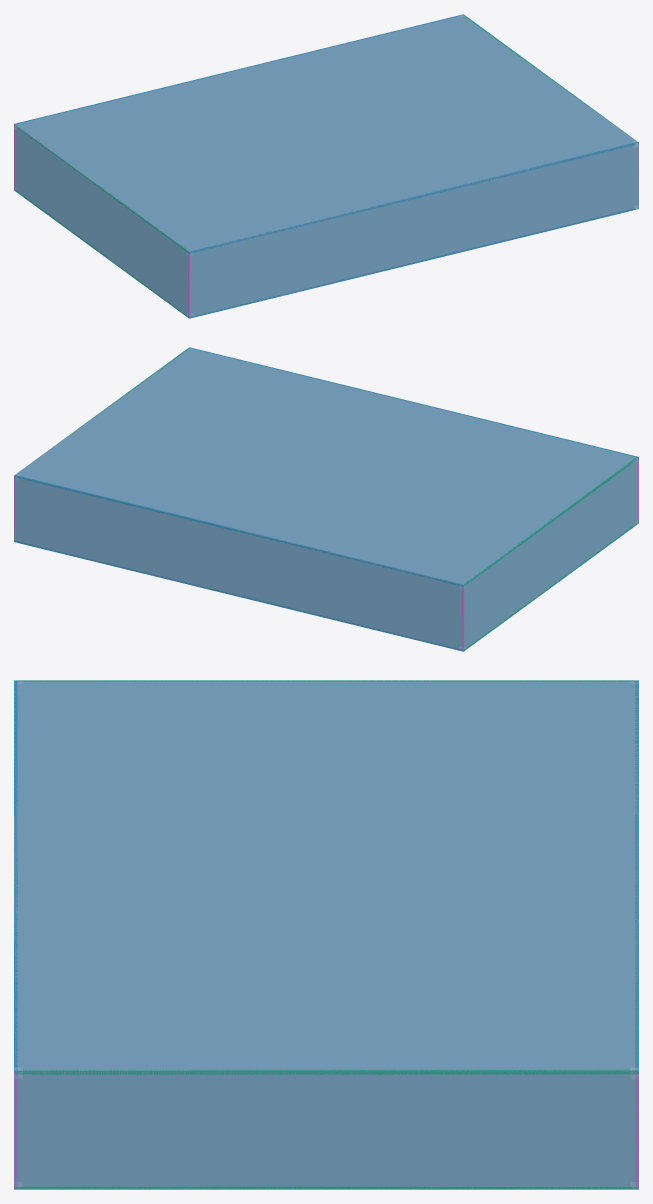
File: total-envelope-total-gpu-gigabyte-gv-n75toc-2gi.glb
3 views of the same model, one above another, from view 1: azimuth 30°, elevation 25°; view 2: azimuth 150°, elevation 25°; view 3: azimuth 270°, elevation 25° (orthographic). The views are drawn at different scales.
Parts seen in each view (by area): view 1: Published outer envelope — not a surface-accurate model, Length guide (×3), Height guide; view 2: Published outer envelope — not a surface-accurate model, Length guide (×3), Height guide; view 3: Published outer envelope — not a surface-accurate model, Height guide (×3), Length guide (×2).
Boxes of the visible parts, x1,y1,x2,y2 form: Published outer envelope — not a surface-accurate model: [14, 15, 638, 317]; Length guide (×3): [14, 14, 638, 318]; Height guide: [16, 124, 188, 252]; Published outer envelope — not a surface-accurate model: [14, 348, 637, 650]; Length guide (×3): [14, 347, 638, 651]; Height guide: [462, 457, 636, 585]; Published outer envelope — not a surface-accurate model: [14, 680, 638, 1189]; Height guide (×3): [14, 680, 638, 1189]; Length guide (×2): [14, 680, 638, 1074].
Bounding box in the file's own units: 0.191 × 0.027 × 0.129.
